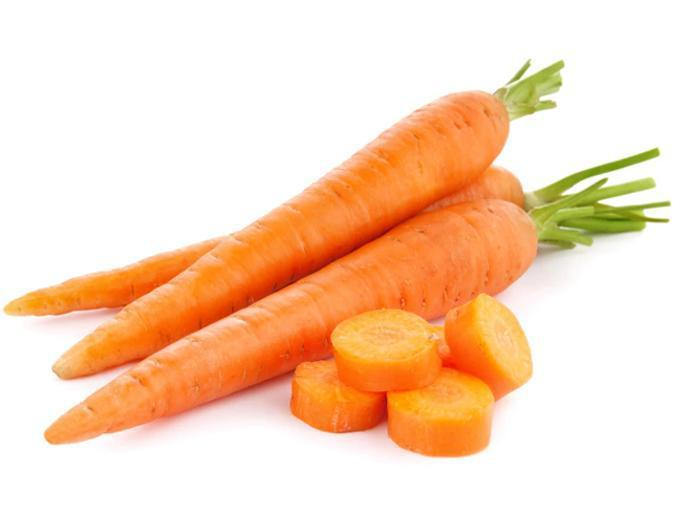carrot: (10, 82, 606, 464)
